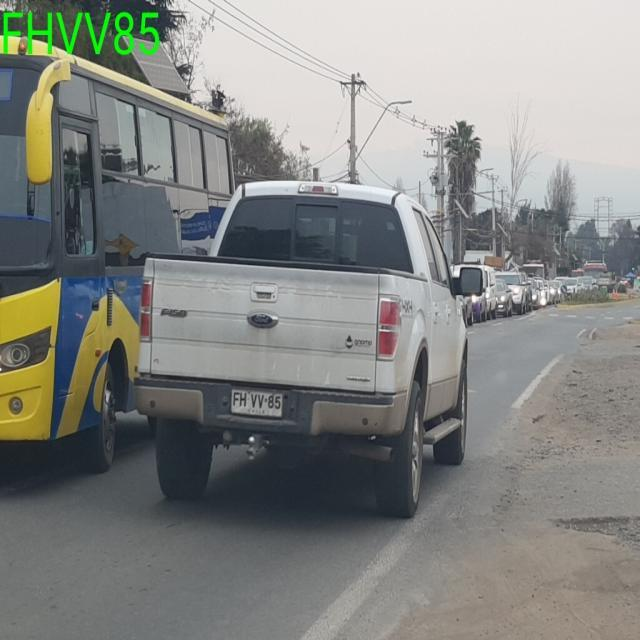Bus: (0, 33, 236, 474)
Pickup: (131, 178, 474, 518)
